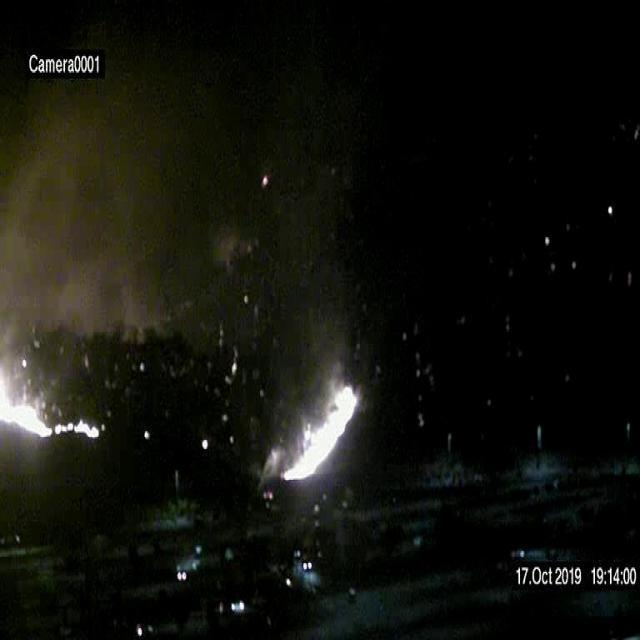Fire: (282, 388, 360, 496), (2, 396, 105, 440)
Smoke: (5, 100, 184, 352)
